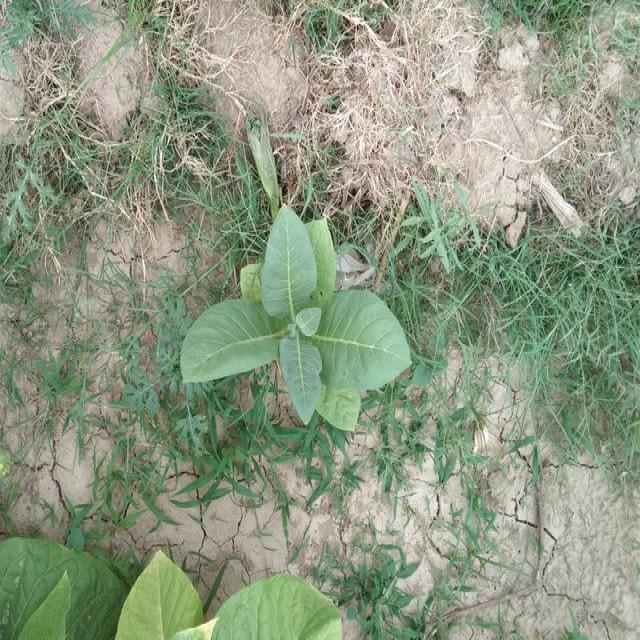crop: (178, 199, 414, 433)
